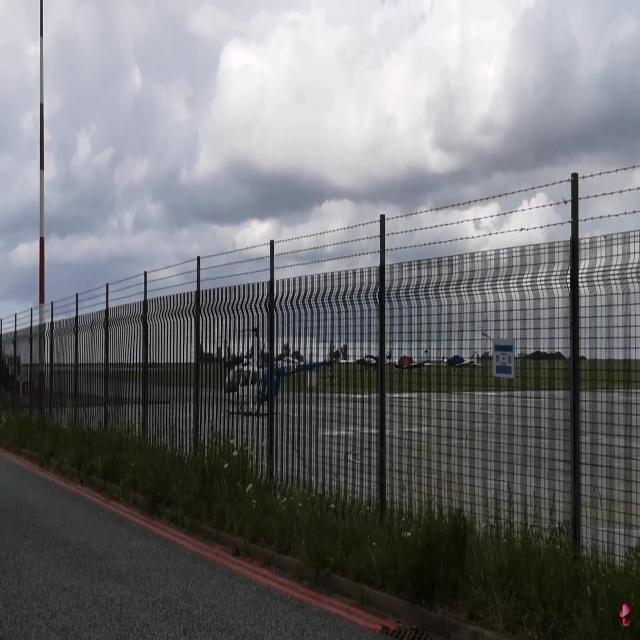CIV_HELO: (223, 325, 336, 417)
